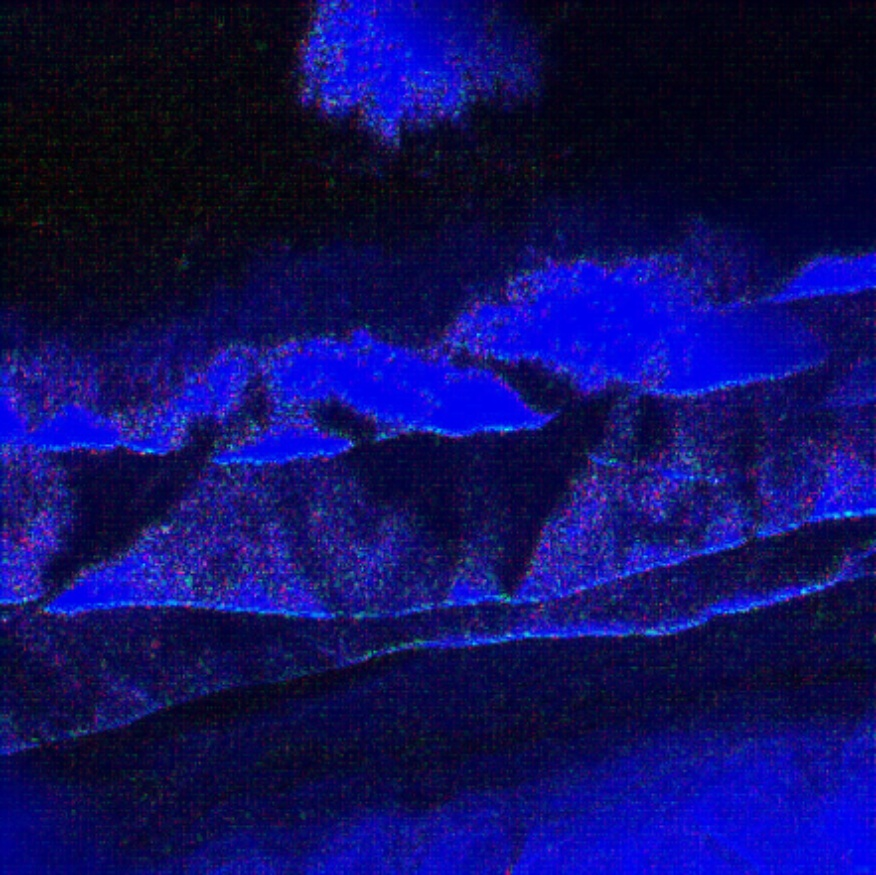rip_current: (353, 367, 635, 571)
